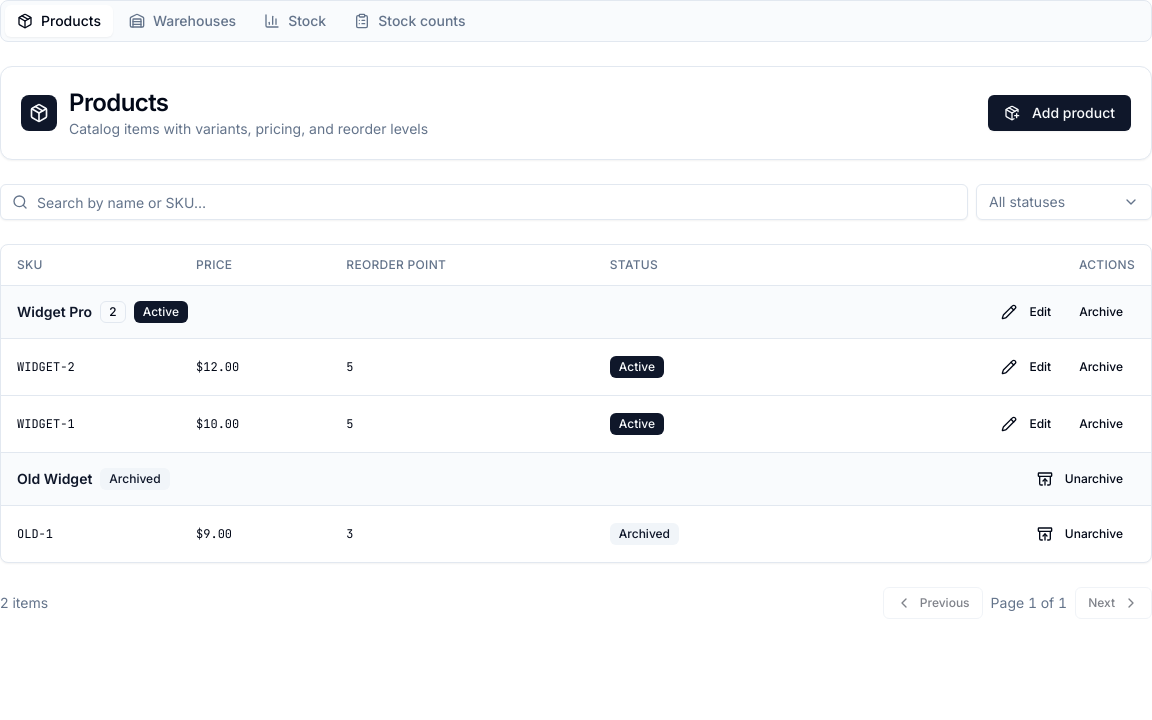
Test: ProductsView — grouped products table › archives/restores at product level from the group header
// Archive the whole product from the Widget Pro header.
Click the button "Archive" in the row of "Widget Pro".
click(1101, 312)  # box [1067,296,1135,328]
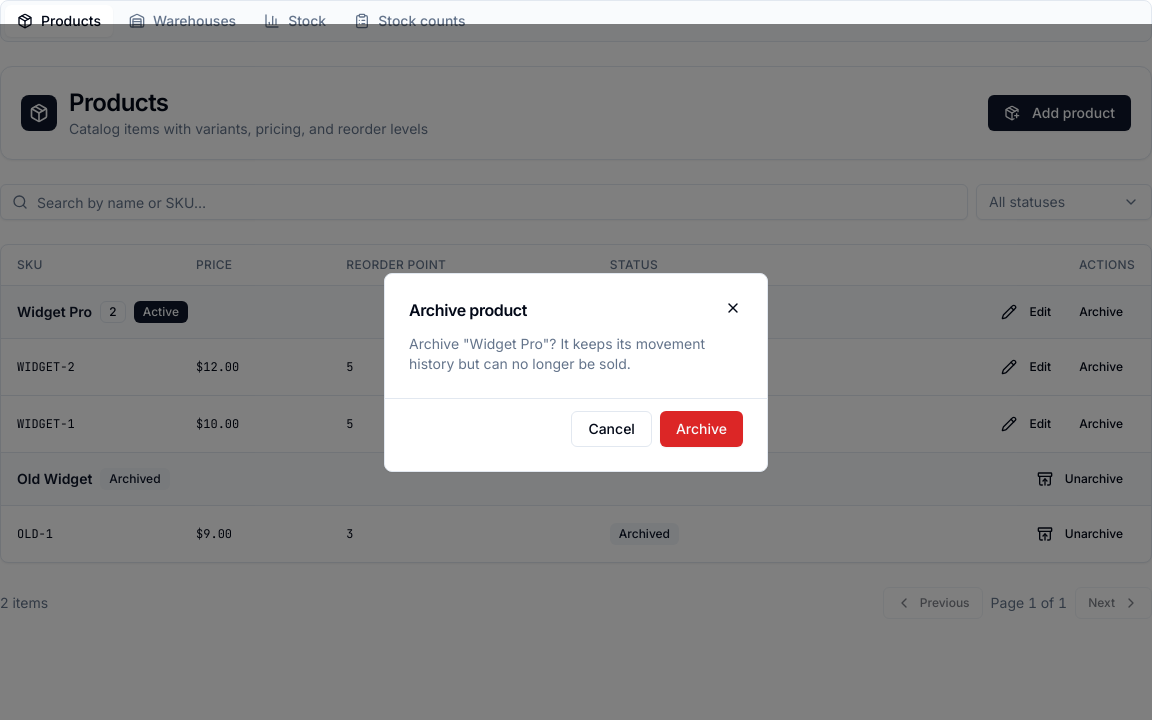
Click the button "Archive".
click(701, 428)  # box [660,410,743,446]
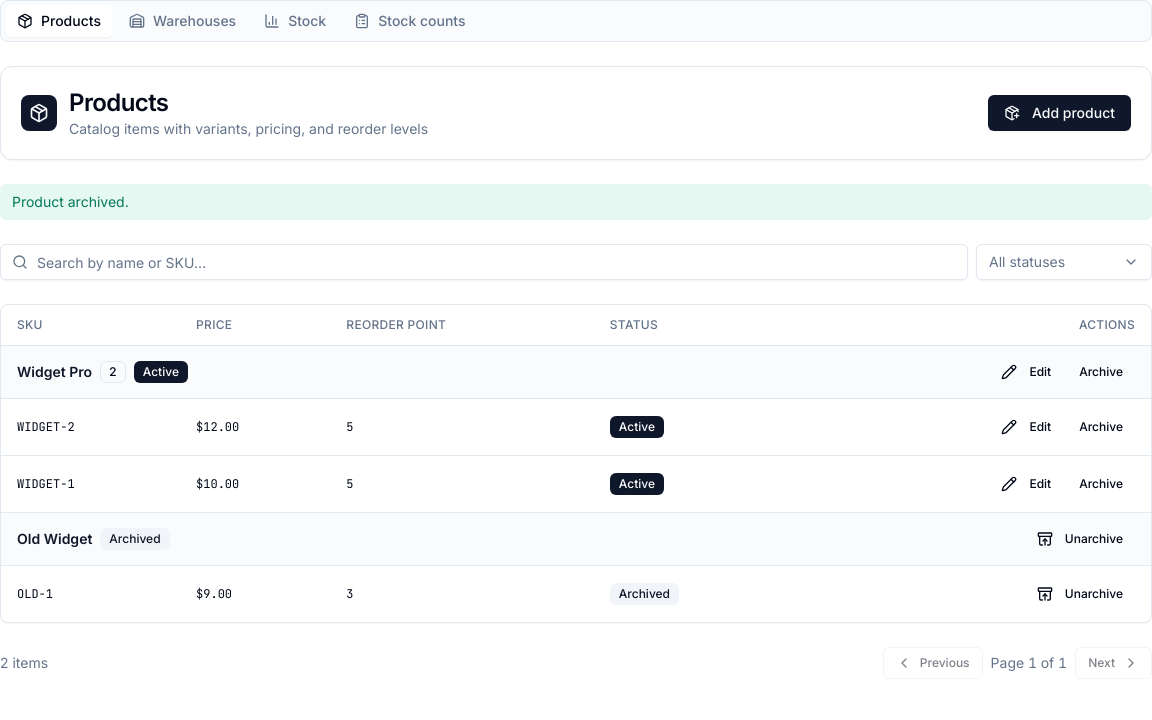
Expected: the text "Product archived." is shown, [0,184,1151,220]
// Restore the fully-archived product from the Old Widget header.
Click the button "Unarchive" in the row of "Old Widget".
click(1080, 539)  # box [1025,523,1135,555]
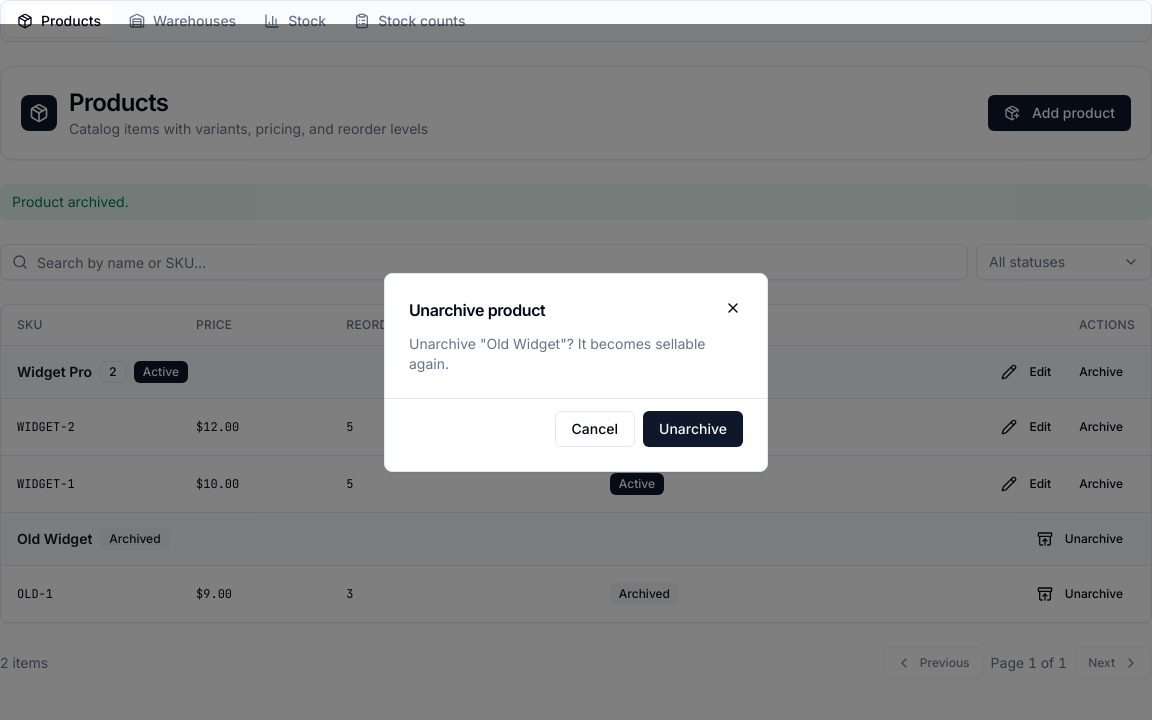
Click the button "Unarchive".
click(693, 428)  # box [643,410,743,446]
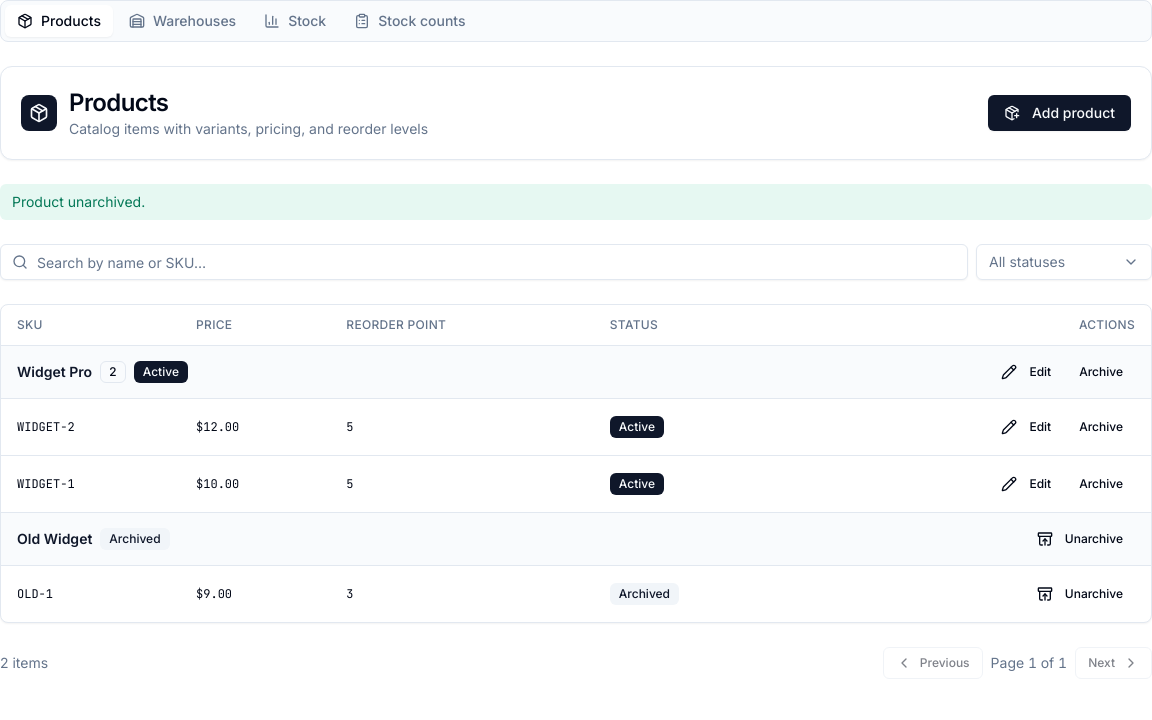
Expected: the text "Product unarchived." is shown, [0,184,1151,220]
